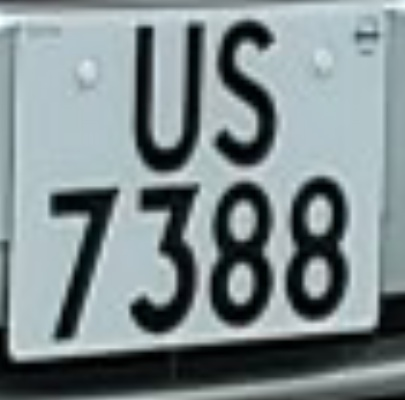3: (122, 178, 205, 342)
7: (35, 175, 120, 352)
8: (201, 171, 283, 338), (279, 167, 360, 328)
S: (208, 11, 288, 175)
U: (119, 11, 214, 184)
